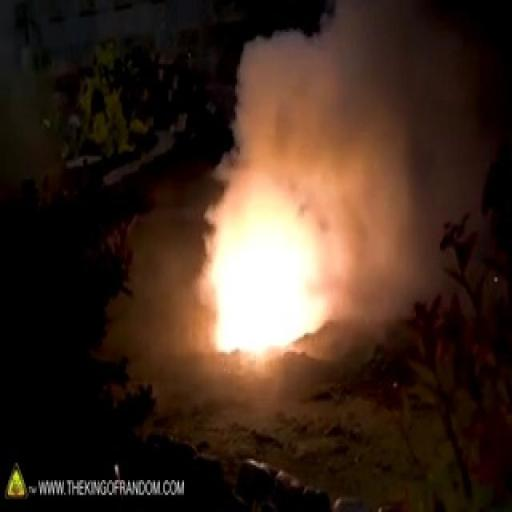smoke: (213, 176, 328, 353)
